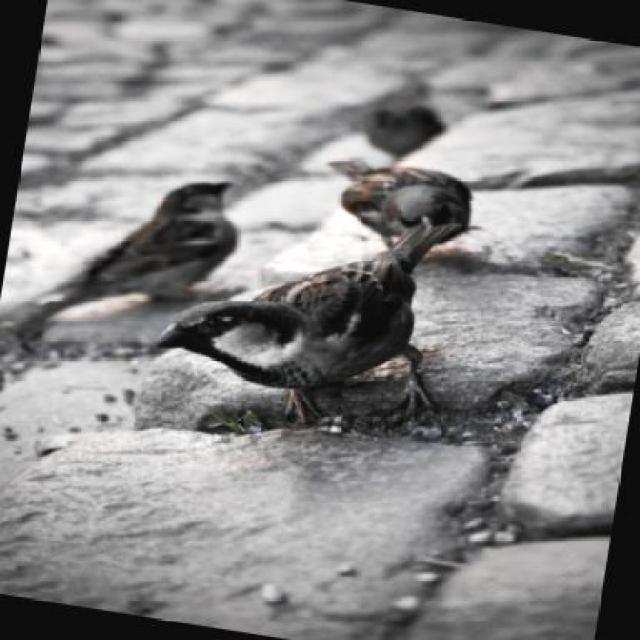Bird: (177, 276, 490, 434), (79, 152, 239, 298), (311, 136, 504, 252)
